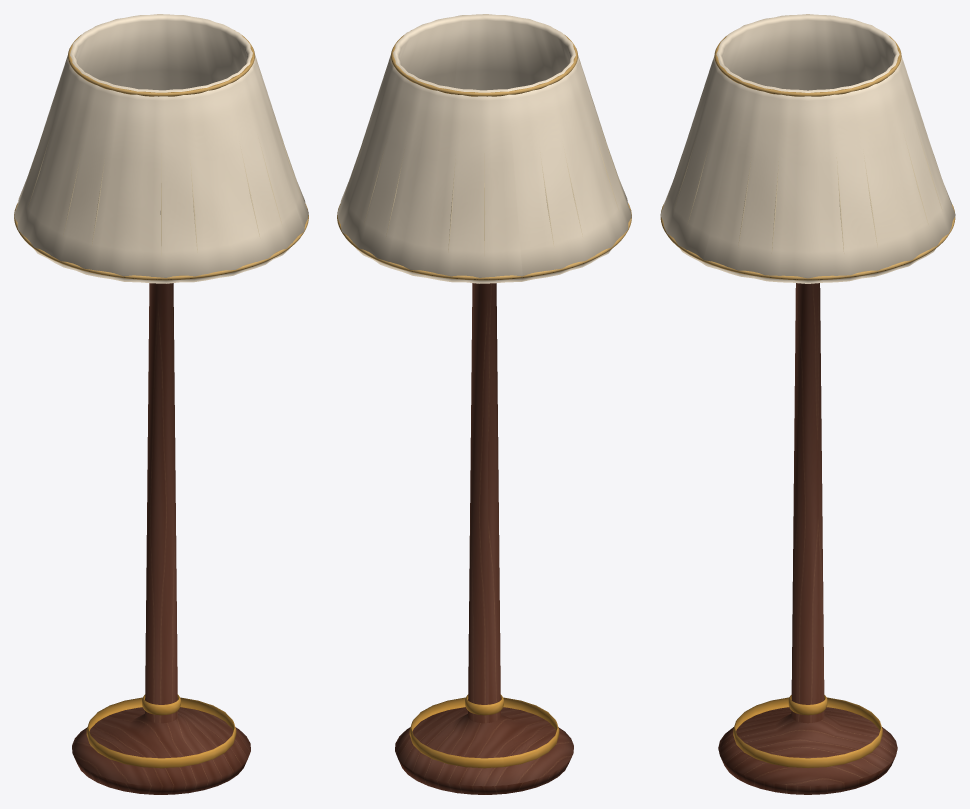
Rendered from V5_FloorLamp.fbx.
3 renders of one model, left to right at view 1: azimuth 30°, elevation 25°; view 2: azimuth 150°, elevation 25°; view 3: azimuth 270°, elevation 25°, orthographic.
Visible parts, largest first — view 1: V5_FloorLamp; view 2: V5_FloorLamp; view 3: V5_FloorLamp.
Boxes of the visible parts, <box> form: V5_FloorLamp: <box>14,14,308,794</box>; V5_FloorLamp: <box>337,14,631,794</box>; V5_FloorLamp: <box>660,14,955,794</box>.
Size of the model in its own units: 0.6256 by 1.65 by 0.6256.
2 materials, 1 textured.
